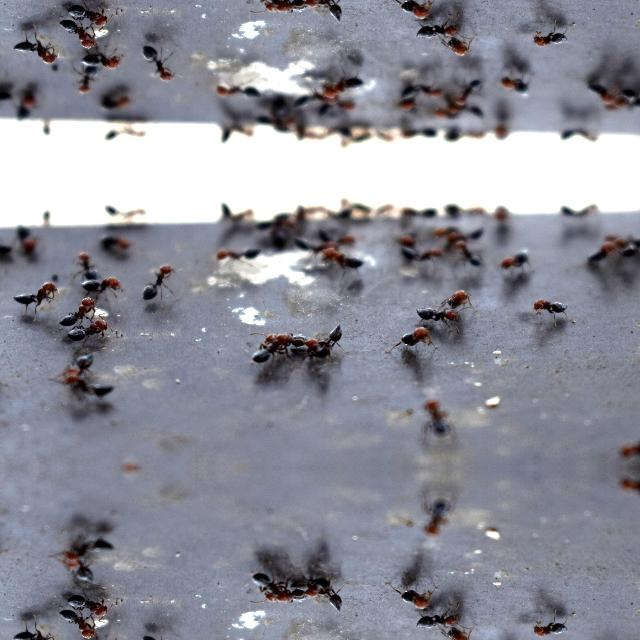Crematogaster: (132, 259, 174, 305), (132, 39, 174, 85), (423, 392, 457, 442), (423, 492, 457, 542), (56, 287, 94, 329), (56, 15, 94, 57), (9, 279, 56, 311), (9, 33, 56, 65), (62, 314, 110, 342), (64, 376, 120, 400), (62, 2, 110, 30), (62, 592, 110, 620), (64, 534, 120, 558), (590, 235, 634, 265), (590, 79, 634, 109), (56, 605, 93, 640), (411, 302, 462, 326), (411, 18, 462, 42), (411, 608, 462, 632), (62, 346, 96, 380), (62, 554, 96, 588), (306, 319, 350, 345), (306, 589, 350, 615), (305, 0, 350, 25), (265, 327, 315, 347), (265, 587, 315, 607), (395, 320, 433, 346), (395, 588, 433, 614), (214, 243, 262, 263), (214, 81, 262, 101), (71, 274, 121, 292), (71, 52, 121, 70), (253, 332, 281, 364), (253, 570, 281, 602), (498, 248, 532, 274), (498, 70, 532, 96), (322, 248, 362, 270), (322, 74, 362, 96), (395, 0, 433, 23), (265, 0, 315, 17), (400, 242, 442, 262), (294, 236, 334, 256), (294, 88, 334, 108), (9, 623, 56, 640), (400, 82, 442, 101), (451, 238, 481, 264), (451, 80, 481, 106), (76, 247, 100, 279), (76, 65, 100, 97), (535, 617, 567, 640), (97, 232, 137, 250), (97, 94, 137, 112), (442, 282, 474, 304), (535, 294, 567, 316), (535, 28, 567, 50), (442, 40, 474, 61), (16, 223, 38, 253), (16, 91, 38, 121), (318, 230, 357, 246), (318, 98, 357, 114), (453, 224, 491, 238), (453, 106, 491, 120), (132, 629, 173, 640), (253, 0, 281, 12), (441, 630, 474, 640), (432, 226, 458, 237), (432, 108, 458, 119)
